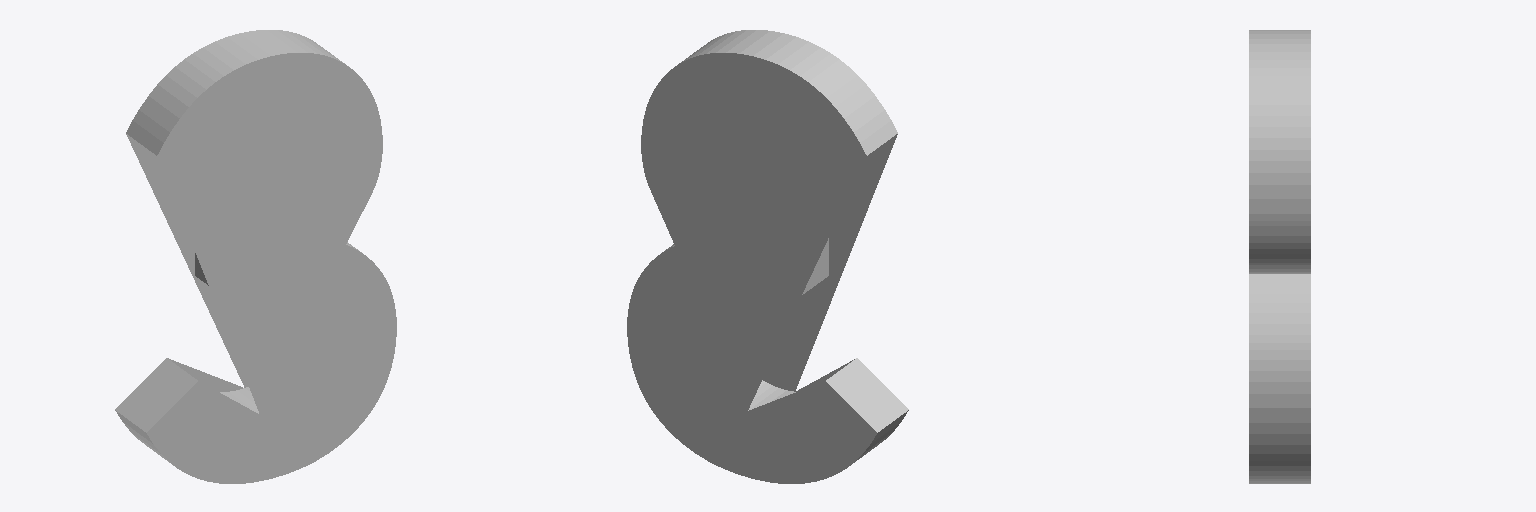
3 renders of one model, left to right at view 1: azimuth 30°, elevation 25°; view 2: azimuth 150°, elevation 25°; view 3: azimuth 270°, elevation 25°, orthographic.
Parts seen in each view (by area): view 1: Cap_1, 3, Cap_2; view 2: Cap_2, 3, Cap_1; view 3: 3.
Boxes of the visible parts, box(x1,y1,x2,y2) form: Cap_1: box(147, 53, 396, 483); 3: box(115, 30, 361, 465); Cap_2: box(126, 134, 248, 391); Cap_2: box(627, 53, 876, 483); 3: box(662, 30, 908, 465); Cap_1: box(763, 134, 897, 391); 3: box(1249, 30, 1310, 483).
Size of the model in its own units: 92.38 by 149 by 20.